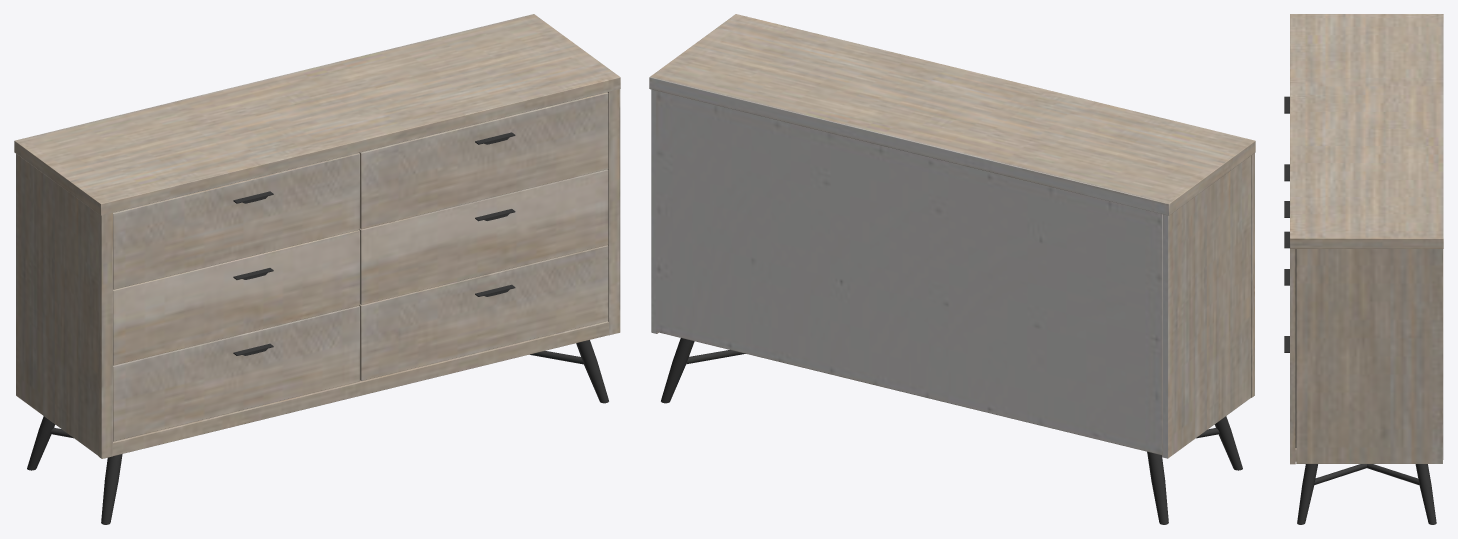
3 views of the same model, side by side, from view 1: azimuth 30°, elevation 25°; view 2: azimuth 150°, elevation 25°; view 3: azimuth 270°, elevation 25° (orthographic). The views are drawn at different scales.
Parts seen in each view (by area): view 1: B07FM83Z21; view 2: B07FM83Z21; view 3: B07FM83Z21.
Boxes of the visible parts, x1=… form: B07FM83Z21: x1=14, y1=14, x2=620, y2=524; B07FM83Z21: x1=649, y1=14, x2=1255, y2=524; B07FM83Z21: x1=1284, y1=14, x2=1443, y2=524.
Bounding box in the file's own units: 1.52 × 0.9145 × 0.4569.
1 material, 1 textured.
